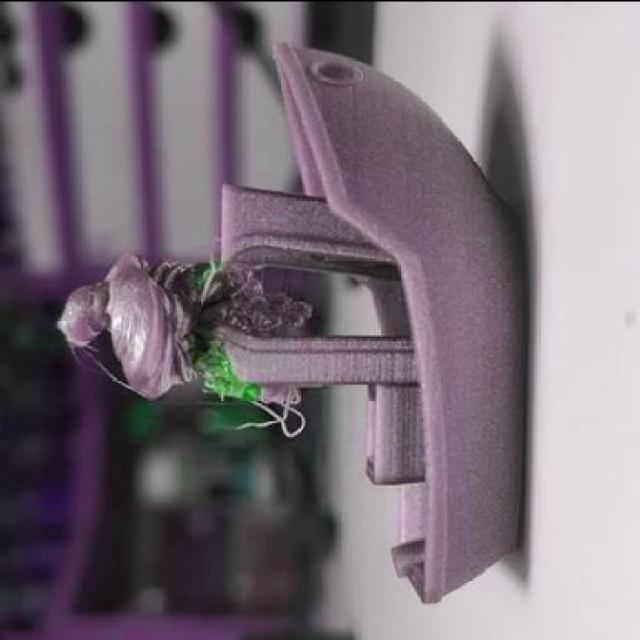Spaghetti: (199, 343, 306, 435), (213, 260, 313, 334)
